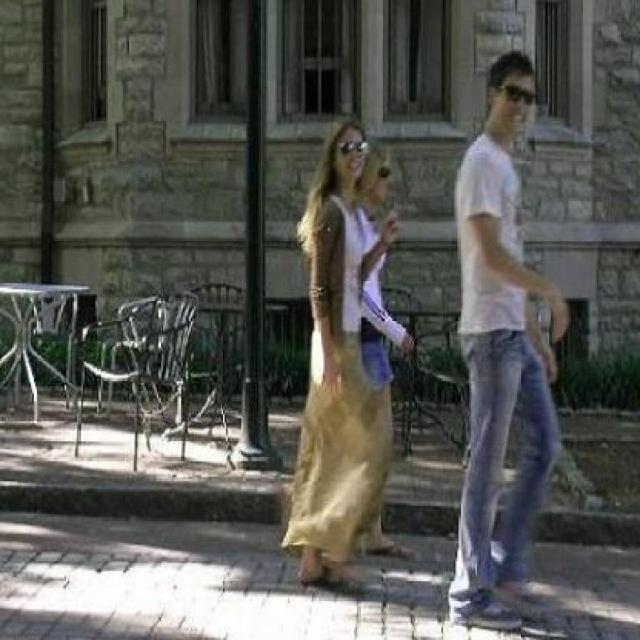Person: (452, 47, 576, 638), (288, 116, 363, 598), (363, 137, 420, 571)
